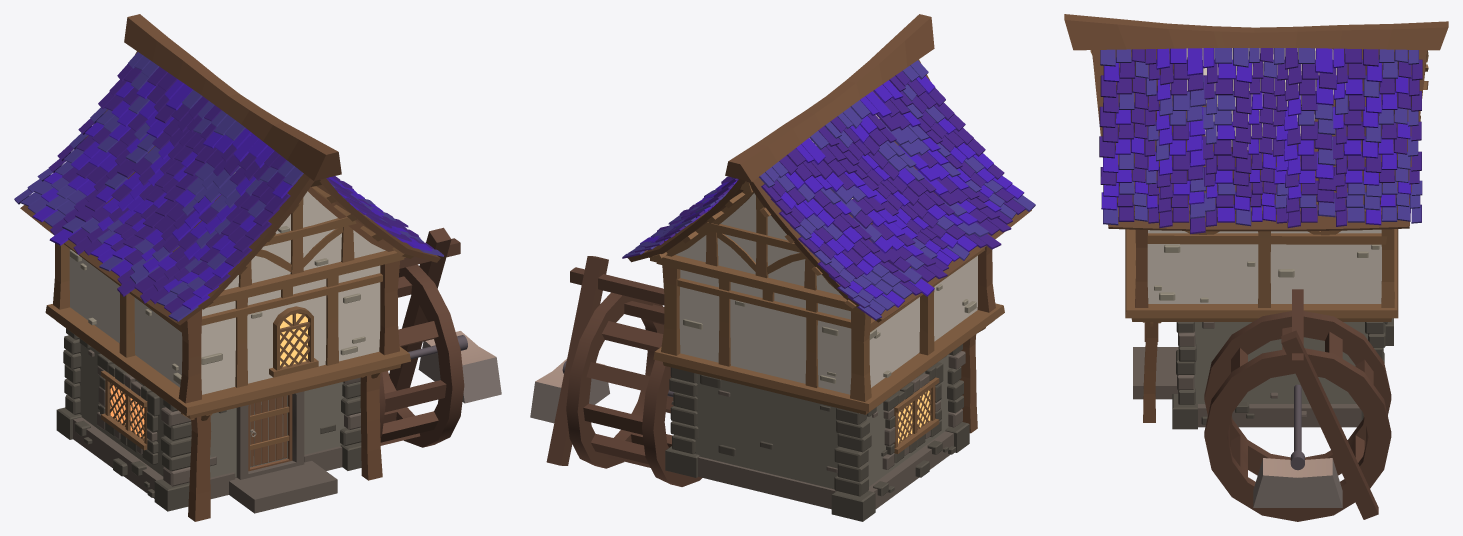
The model's file is Market.fbx.
The picture shows the model from 3 angles, left to right: view 1: azimuth 30°, elevation 25°; view 2: azimuth 150°, elevation 25°; view 3: azimuth 270°, elevation 25°; orthographic projection. The views are drawn at different scales.
Parts seen in each view (by area): view 1: Market; view 2: Market; view 3: Market.
Boxes of the visible parts, x1,y1,x2,y2 form: Market: (14,14,501,521); Market: (530,14,1035,521); Market: (1064,14,1448,521).
Bounding box in the file's own units: 763 × 750 × 639.
